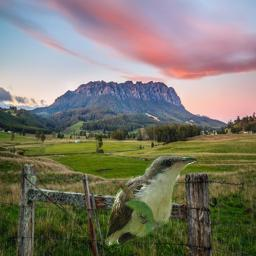Cuckoo: (104, 154, 197, 248)
